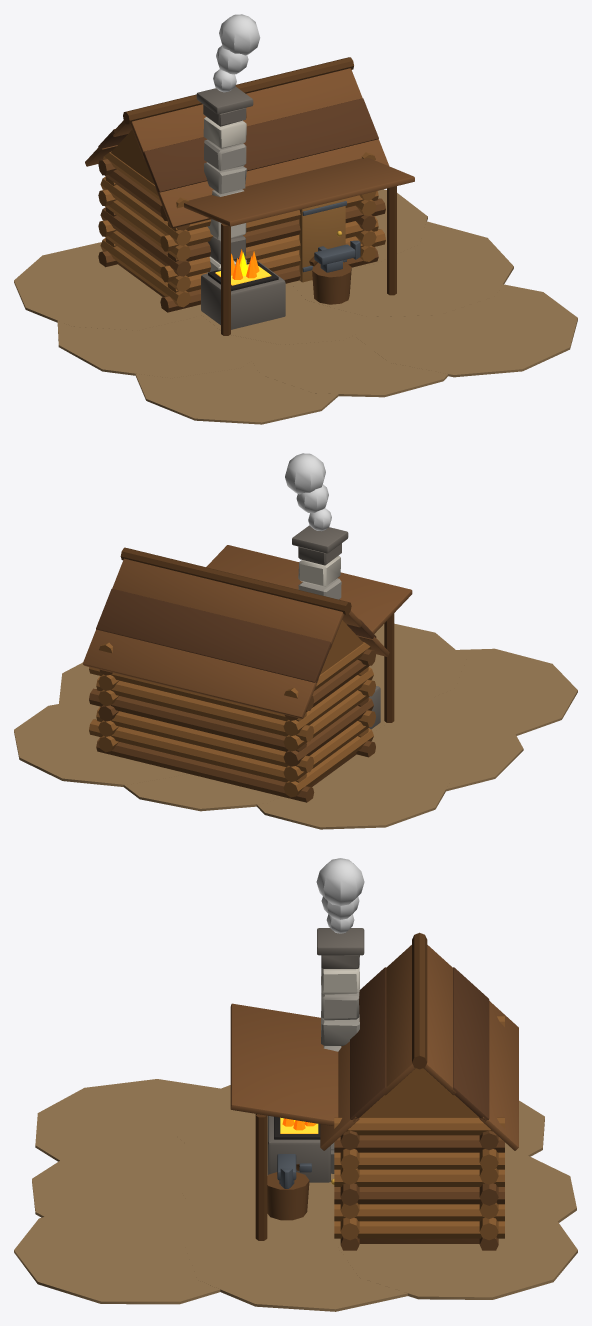
File: kuznia_poz03.glb
3 renders of one model, top to bottom at view 1: azimuth 30°, elevation 25°; view 2: azimuth 150°, elevation 25°; view 3: azimuth 270°, elevation 25°, orthographic. The views are drawn at different scales.
Parts seen in each view (by area): view 1: kuznia_poz03; view 2: kuznia_poz03; view 3: kuznia_poz03.
Boxes of the visible parts, box(x1,y1,x2,y2) form: kuznia_poz03: box(14, 14, 577, 424); kuznia_poz03: box(14, 453, 577, 829); kuznia_poz03: box(14, 858, 577, 1311).
Size of the model in its own units: 8.84 by 5.53 by 8.92.
